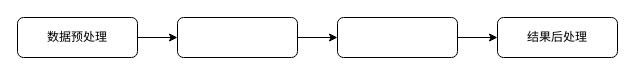
Image size: 635x75. Some labels were removed from this diagram. The shapes that lost their labels are listed below. From the top down, each one's centre as x and y in pixels, then its label:
At point (237, 37): "模型训练".
At point (397, 37): "模型预测".
